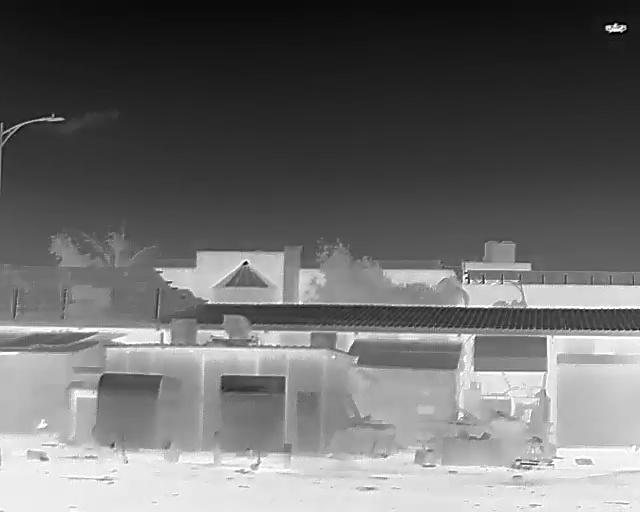fpv-drone: (604, 22, 627, 33)
